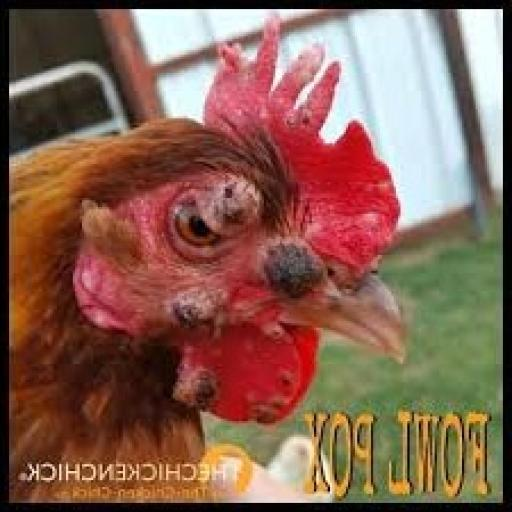disease: (192, 11, 346, 135), (180, 119, 261, 258), (247, 220, 345, 308), (144, 263, 230, 338), (246, 365, 311, 438), (164, 350, 222, 427), (360, 192, 395, 265)
